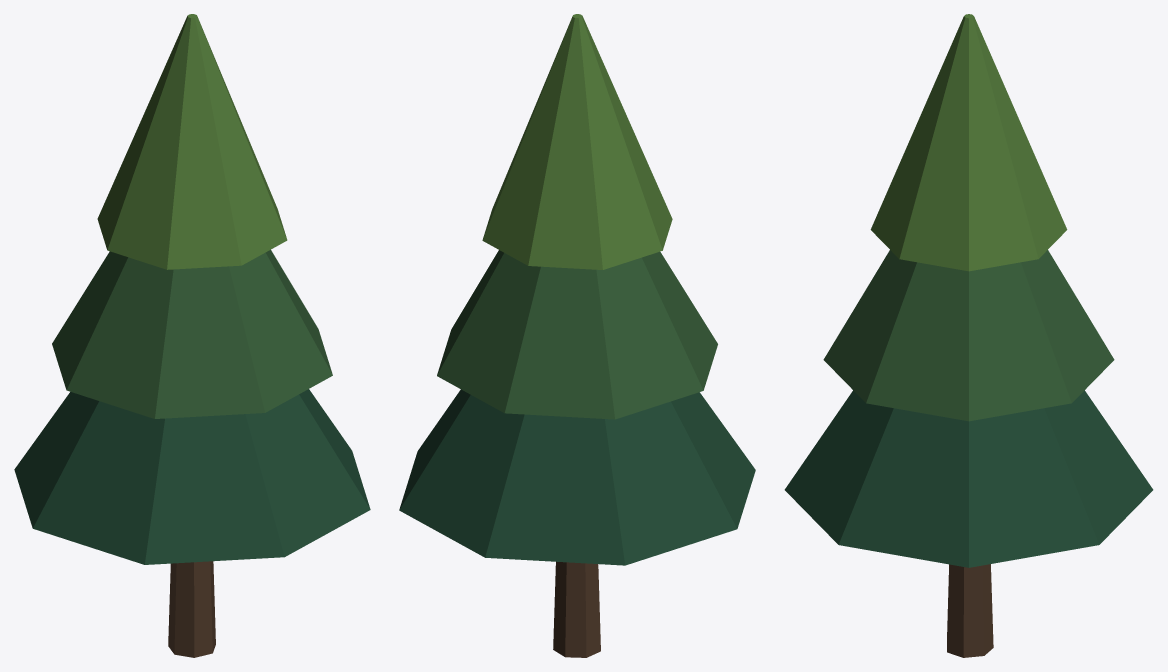
File: pine.glb
The picture shows the model from 3 angles, left to right: view 1: azimuth 30°, elevation 25°; view 2: azimuth 150°, elevation 25°; view 3: azimuth 270°, elevation 25°; orthographic projection.
Parts seen in each view (by area): view 1: Alfa_pine; view 2: Alfa_pine; view 3: Alfa_pine.
Boxes of the visible parts, box(x1,y1,x2,y2) form: Alfa_pine: box(14, 14, 370, 657); Alfa_pine: box(399, 14, 755, 657); Alfa_pine: box(784, 14, 1153, 657).
Size of the model in its own units: 1.8 by 3.4 by 1.8.
